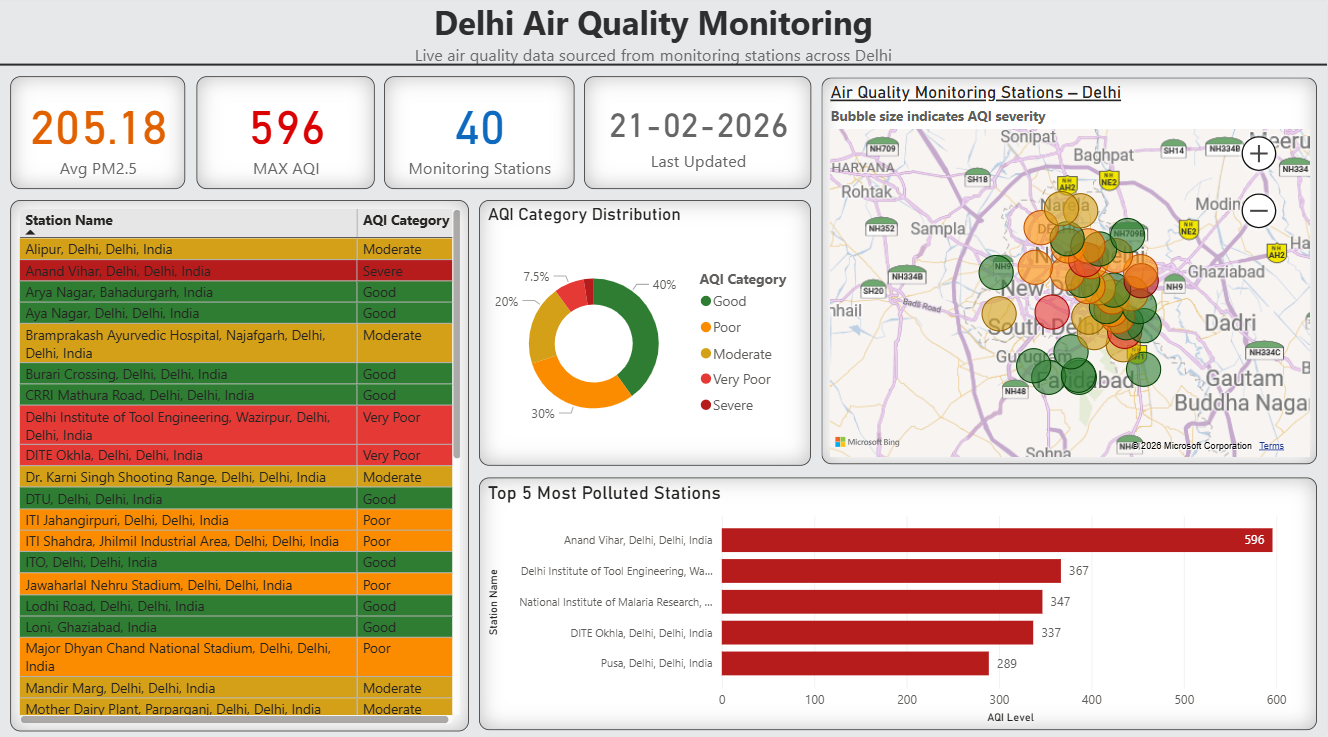

What the dashboard file says about the page in this screenshot:
{"tool":"powerbi","page":{"name":"Delhi Air Quality – Live Overview","canvas":[1300,730],"ordinal":0},"visuals":[{"type":"textbox","box":[11.4,0,1258.6,91.4],"z":0},{"type":"shape","box":[0,0,1300,136.2],"z":1000},{"type":"card","fields":{"Values":["Avg(AirQuality_Readings.PM25)"]},"box":[11,80,171,110],"z":2000},{"type":"card","fields":{"Values":["Max(AirQuality_Stations.AQI)"]},"box":[193,80,174,110],"z":3000},{"type":"card","fields":{"Values":["Count(AirQuality_Readings.Station ID)"]},"box":[377,80,186,110],"z":4000},{"type":"card","fields":{"Values":["Min(AirQuality_Readings.last updated date)"]},"box":[572.5,79.5,222.6,110.1],"z":5000},{"type":"map","title":"Air Quality Monitoring Stations – Delhi","fields":{"Y":["AirQuality_Stations.Latitude"],"X":["AirQuality_Stations.Longitude"],"Size":["CountNonNull(AirQuality_Readings.Station ID)"]},"box":[805,81.2,485,378.8],"z":6000},{"type":"tableEx","fields":{"Values":["AirQuality_Stations.Station Name","AirQuality_Stations.AQI Category"]},"box":[11.2,200,448.8,520],"z":7000},{"type":"donutChart","title":"AQI Category Distribution","fields":{"Category":["AirQuality_Stations.AQI Category 1"],"Y":["Count(AirQuality_Readings.Station ID)"]},"box":[469.7,200.6,325.4,259.3],"z":8000},{"type":"clusteredBarChart","title":"Top 5 Most Polluted Stations","fields":{"Category":["AirQuality_Stations.Station Name"],"Y":["Max(AirQuality_Stations.AQI individual)"]},"box":[470,472.5,820,247.5],"z":9000}]}

Visuals, with their boxes in screenshot pixels (x1, y1, x2, y2), scaled from the page's 1300x730 canvas onto the 1328x737 screenshot:
textbox: 12,0,1297,92
shape: 0,0,1327,138
card - Avg(AirQuality_Readings.PM25): 11,81,186,192
card - Max(AirQuality_Stations.AQI): 197,81,375,192
card - Count(AirQuality_Readings.Station ID): 385,81,575,192
card - Min(AirQuality_Readings.last updated date): 585,80,812,191
"Air Quality Monitoring Stations – Delhi" map: 822,82,1318,464
tableEx - AirQuality_Stations.Station Name x AirQuality_Stations.AQI Category: 11,202,470,727
"AQI Category Distribution" donutChart: 480,203,812,464
"Top 5 Most Polluted Stations" clusteredBarChart: 480,477,1318,727
